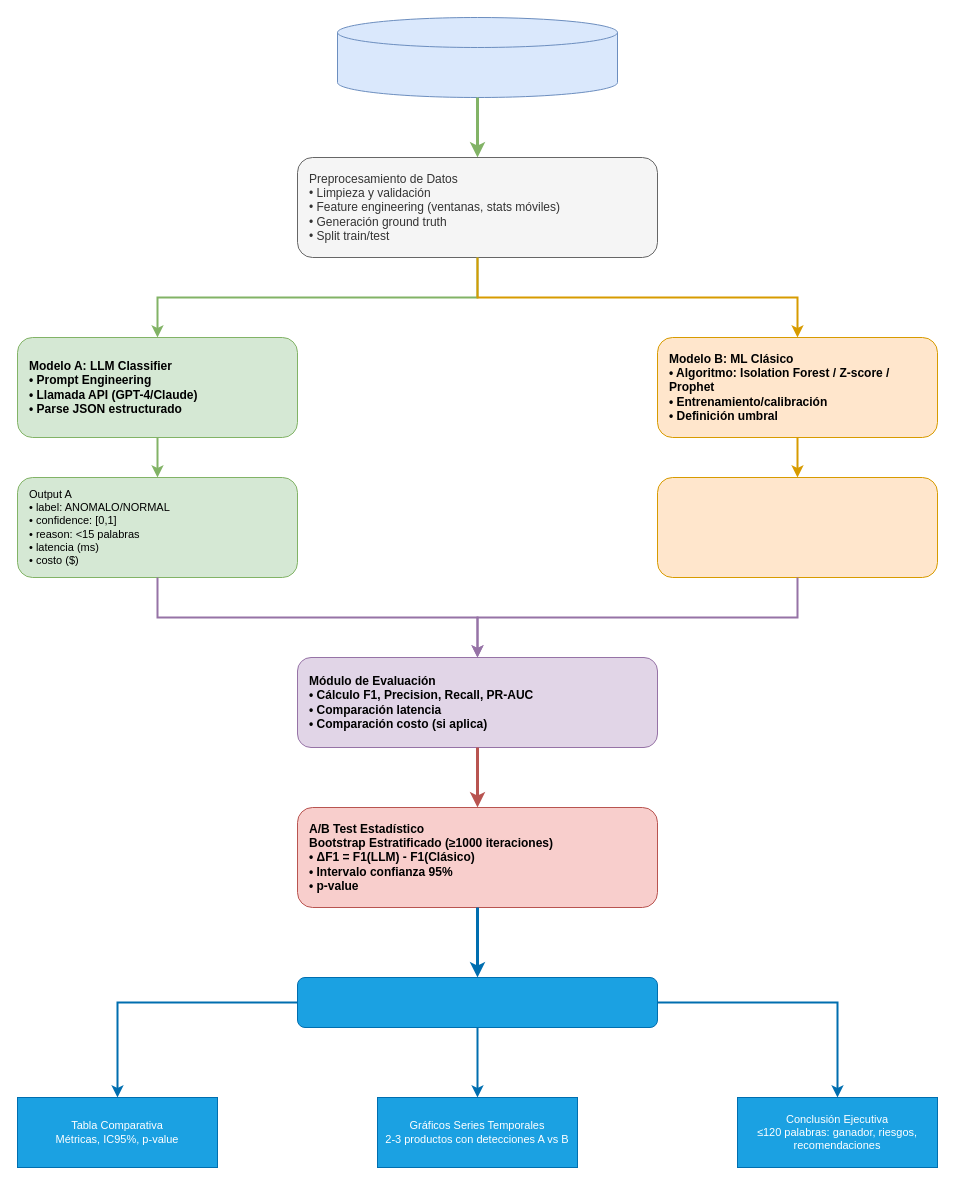
Some shapes in this 955 by 1185 pixel diagram are drawn without their labels. The centre of each missing label's shape, as x and y in pixels:
"Dataset: precios_historicos.csv (ITEM_ID, ORD_CLOSED_DT, PRICE)" goes at [477,57].
"Output B • label: ANOMALO/NORMAL • anomaly score • umbral usado • latencia (ms)" goes at [797,527].
"Resultados Finales" goes at [477,1002].
